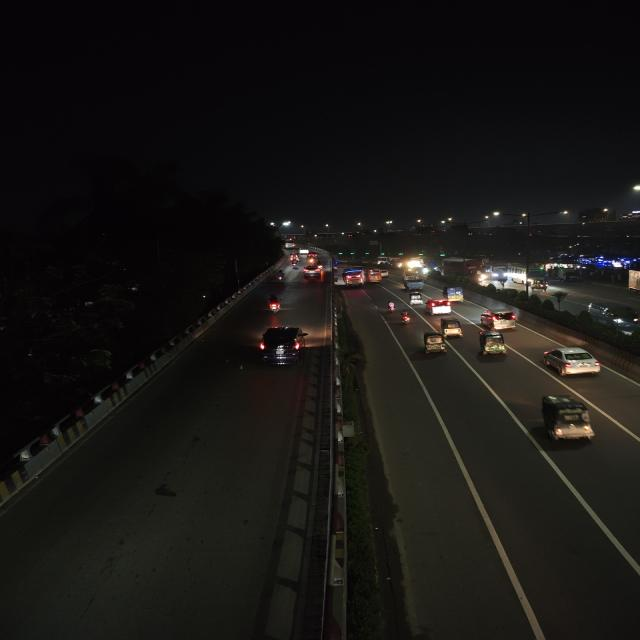bus: (441, 256, 486, 282), (506, 262, 542, 284), (489, 263, 511, 284), (343, 268, 365, 288), (365, 267, 382, 286)
car: (538, 346, 608, 383), (253, 324, 309, 366), (585, 297, 640, 333), (479, 306, 520, 334), (425, 299, 454, 315), (301, 264, 324, 280)
cng: (540, 394, 596, 451), (478, 332, 506, 357), (418, 330, 446, 354), (441, 316, 463, 338), (404, 292, 424, 308), (530, 277, 548, 291)
motorcycle: (264, 294, 286, 317), (275, 268, 287, 284), (384, 300, 398, 312), (400, 310, 412, 324)
pickup_van: (404, 272, 425, 293)
truck: (442, 285, 468, 305), (558, 269, 582, 284)
